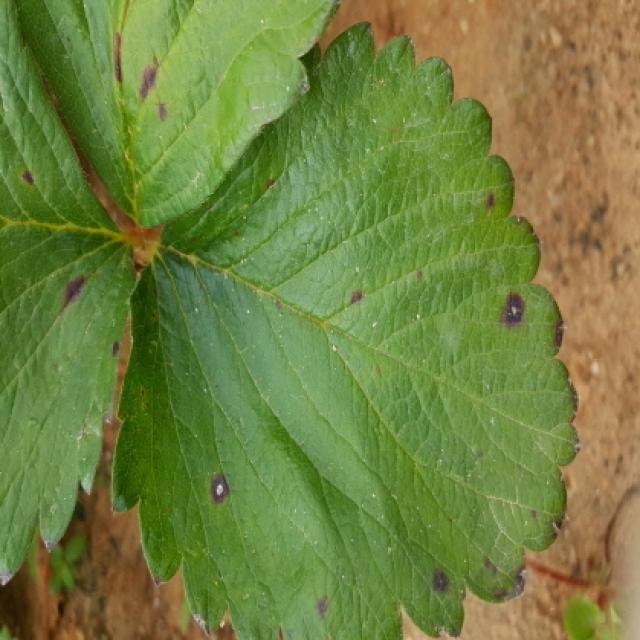Leaf Spot: (112, 21, 582, 638)
